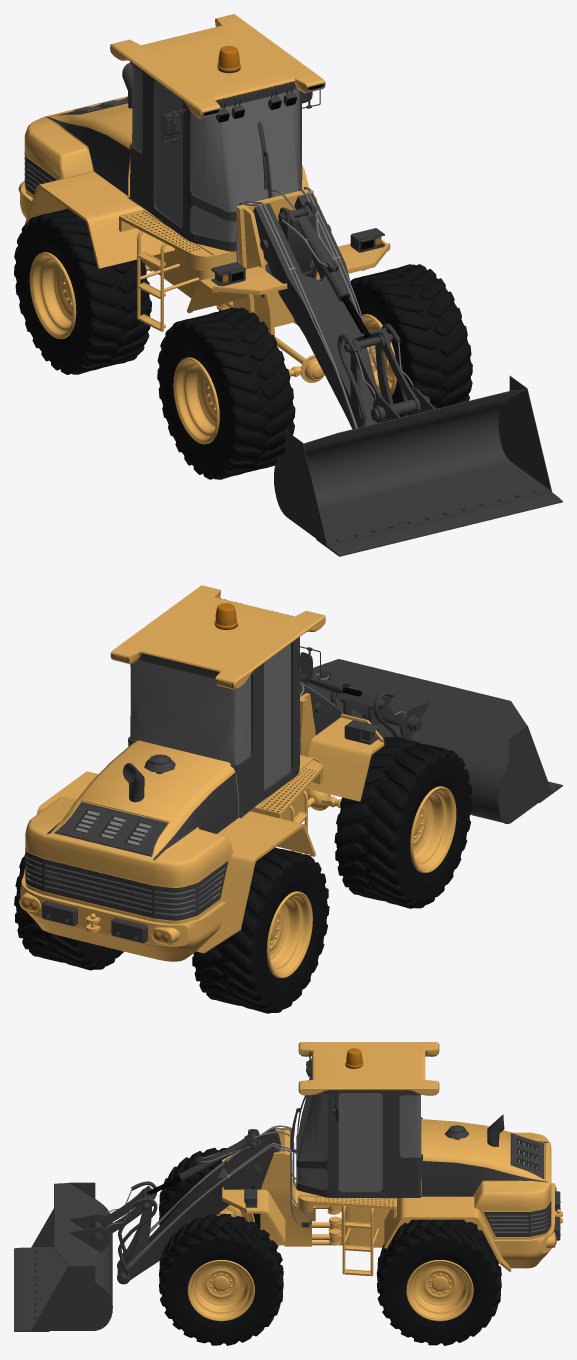
The model's file is 推土机.fbx.
The picture shows the model from 3 angles, top to bottom: view 1: azimuth 30°, elevation 25°; view 2: azimuth 150°, elevation 25°; view 3: azimuth 270°, elevation 25°; orthographic projection. The views are drawn at different scales.
Parts seen in each view (by area): view 1: AM115_004_43, AM115_004_42, AM115_004_40, AM115_004_34, AM115_004_04, AM115_004_33, AM115_004_05, AM115_004_02, AM115_004_00, AM115_004_25, AM115_004_06, AM115_004_18 (+2 smaller); view 2: AM115_004_42, AM115_004_40, AM115_004_34, AM115_004_43, AM115_004_04, AM115_004_33, AM115_004_02, AM115_004_38, AM115_004_06, AM115_004_18, AM115_004_37, AM115_004_25 (+3 smaller); view 3: AM115_004_42, AM115_004_40, AM115_004_43, AM115_004_05, AM115_004_38, AM115_004_04, AM115_004_02, AM115_004_00, AM115_004_25, AM115_004_06, AM115_004_18, AM115_004_37 (+3 smaller).
Boxes of the visible parts, x1,y1,x2,y2 form: AM115_004_43: (274,376,562,556); AM115_004_42: (18,96,390,331); AM115_004_40: (24,61,537,541); AM115_004_34: (157,307,295,479); AM115_004_04: (132,65,299,241); AM115_004_33: (14,208,151,374); AM115_004_05: (350,264,472,417); AM115_004_02: (110,14,325,118); AM115_004_00: (253,193,384,429); AM115_004_25: (145,188,393,382); AM115_004_06: (173,314,396,444); AM115_004_18: (29,252,76,338); AM115_004_42: (19,714,384,961); AM115_004_40: (25,598,429,943); AM115_004_34: (334,736,472,908); AM115_004_43: (308,659,562,823); AM115_004_04: (130,643,290,789); AM115_004_33: (192,847,329,1013); AM115_004_02: (110,585,325,689); AM115_004_38: (14,848,123,970); AM115_004_06: (410,786,456,873); AM115_004_18: (266,891,312,978); AM115_004_37: (46,772,238,860); AM115_004_25: (282,693,341,820); AM115_004_42: (222,1119,562,1276); AM115_004_40: (34,1052,560,1324); AM115_004_43: (14,1182,112,1331); AM115_004_05: (159,1213,283,1345); AM115_004_38: (376,1219,501,1345); AM115_004_04: (297,1076,420,1191); AM115_004_02: (299,1042,438,1095); AM115_004_00: (117,1129,280,1279); AM115_004_25: (216,1127,341,1246); AM115_004_06: (187,1209,254,1321); AM115_004_18: (406,1260,473,1321); AM115_004_37: (422,1141,548,1196).
Bounding box in the file's own units: 2453 × 3256 × 6394.
